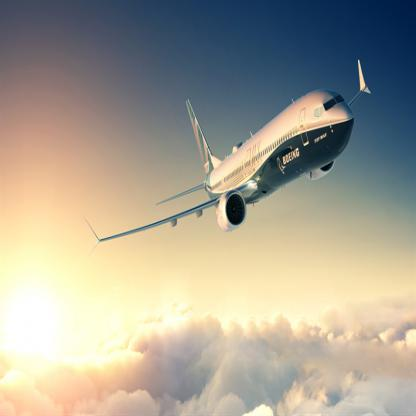CIV_Plane: (83, 52, 375, 242)
